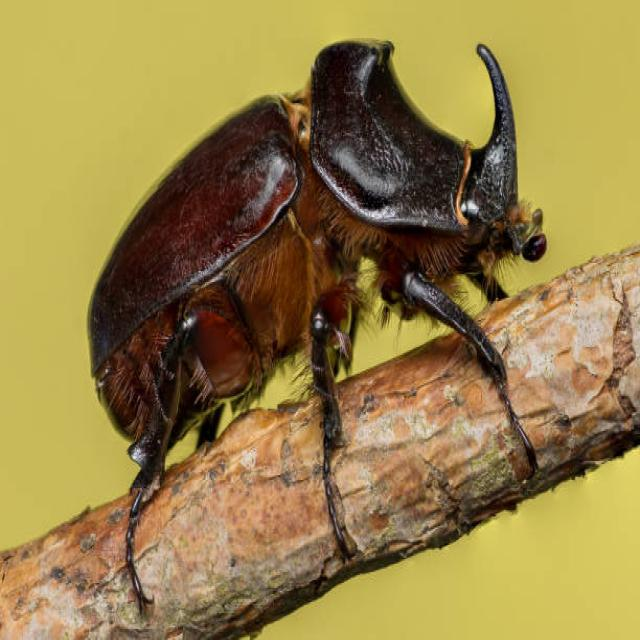Rhino-beetle: (50, 30, 563, 520)
